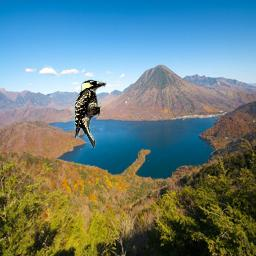Woodpecker: (73, 80, 108, 149)
